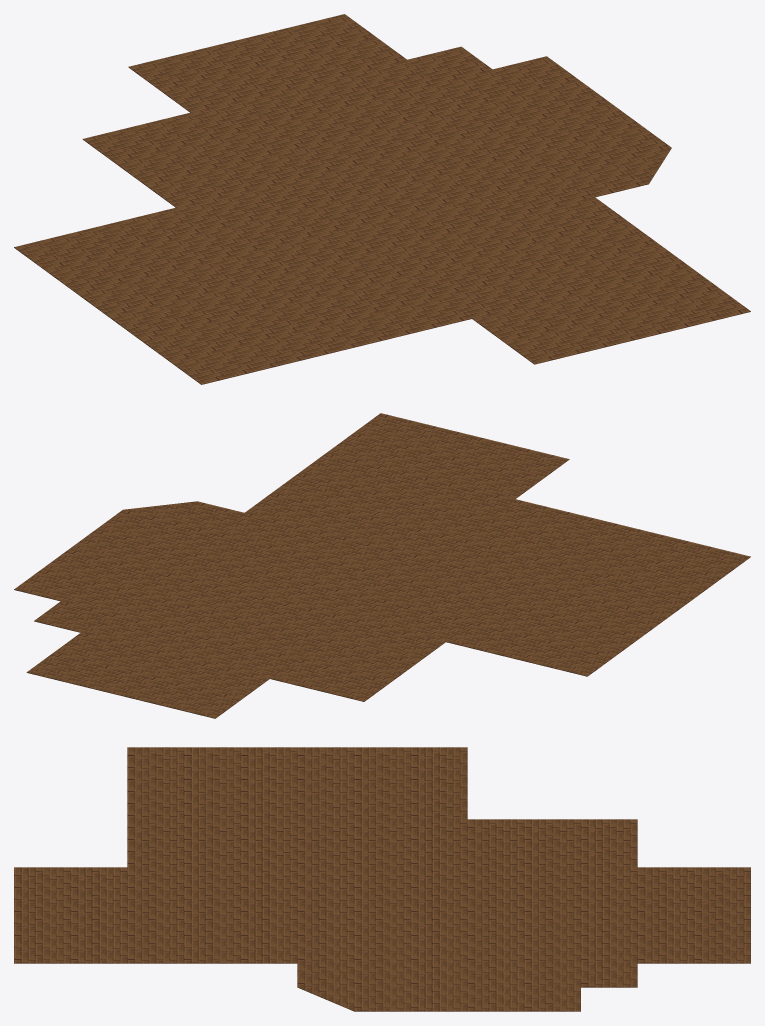
Rendered from SM_TutorialIsland_A_F0.fbx.
3 renders of one model, top to bottom at view 1: azimuth 30°, elevation 25°; view 2: azimuth 150°, elevation 25°; view 3: azimuth 270°, elevation 25°, orthographic. The views are drawn at different scales.
Parts seen in each view (by area): view 1: SM_TutorialIsland_A_F0; view 2: SM_TutorialIsland_A_F0; view 3: SM_TutorialIsland_A_F0.
Boxes of the visible parts, <box> form: SM_TutorialIsland_A_F0: <box>14,14,750,384</box>; SM_TutorialIsland_A_F0: <box>14,413,750,718</box>; SM_TutorialIsland_A_F0: <box>14,747,750,1011</box>.
Size of the model in its own units: 1100 by 1 by 1300.
1 material, 1 textured.
